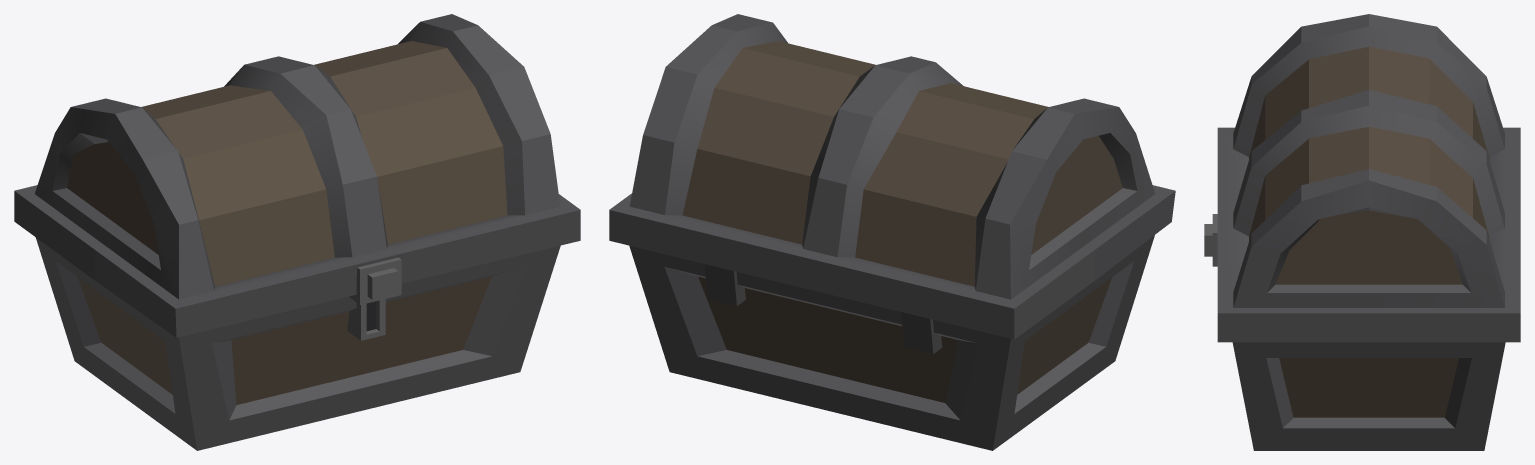
The model's file is SM_Prop_Chest_Lid_03.glb.
3 renders of one model, left to right at view 1: azimuth 30°, elevation 25°; view 2: azimuth 150°, elevation 25°; view 3: azimuth 270°, elevation 25°, orthographic. The views are drawn at different scales.
Parts seen in each view (by area): view 1: SM_Prop_Chest_Lid_03; view 2: SM_Prop_Chest_Lid_03; view 3: SM_Prop_Chest_Lid_03.
Part boxes in pixels (<box>): SM_Prop_Chest_Lid_03: <box>14,14,580,450</box>; SM_Prop_Chest_Lid_03: <box>609,14,1175,450</box>; SM_Prop_Chest_Lid_03: <box>1204,14,1520,450</box>.
Size of the model in its own units: 0.00671 by 0.0047 by 0.00483.
